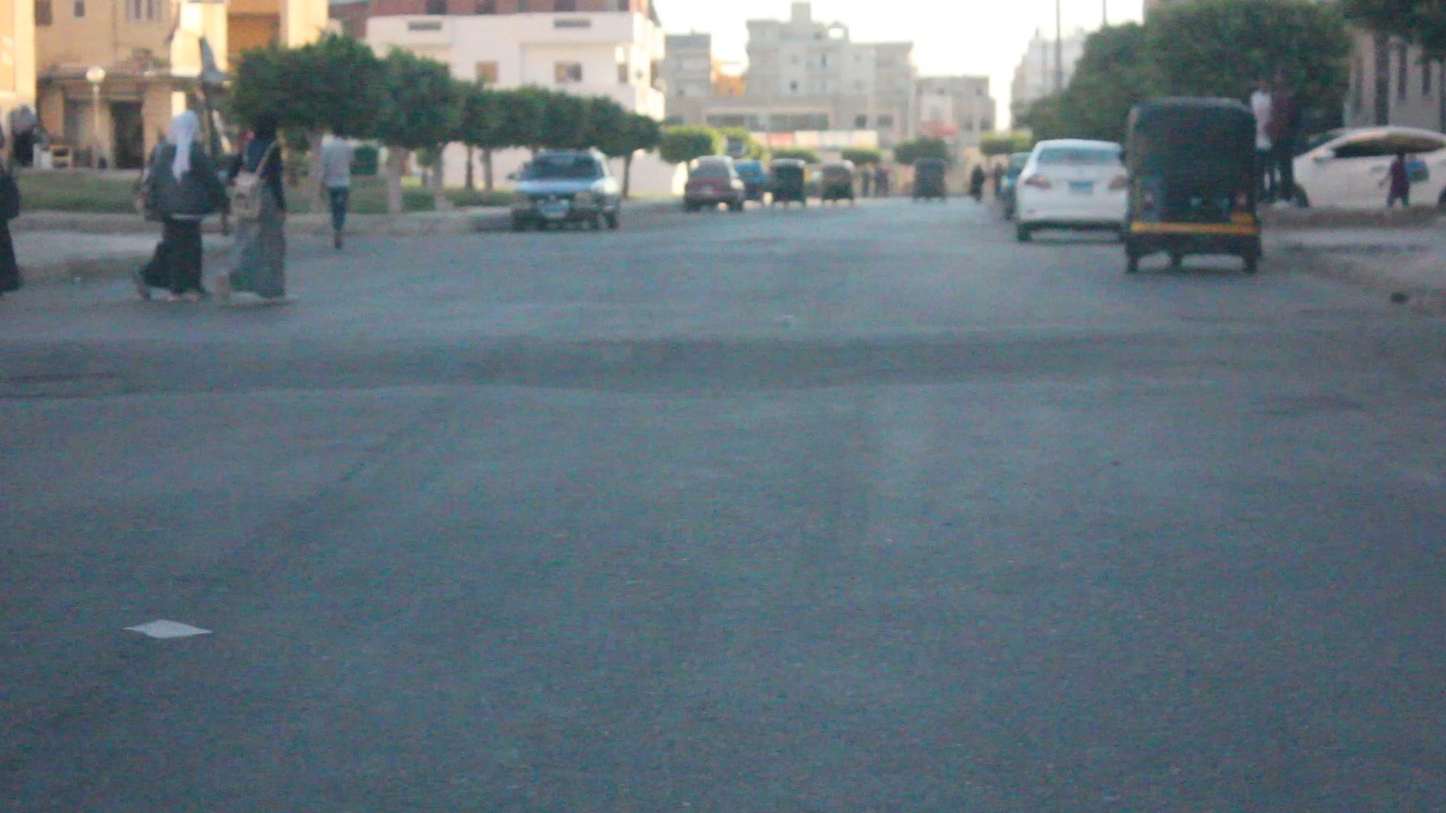Bump: (8, 312, 1446, 384)
